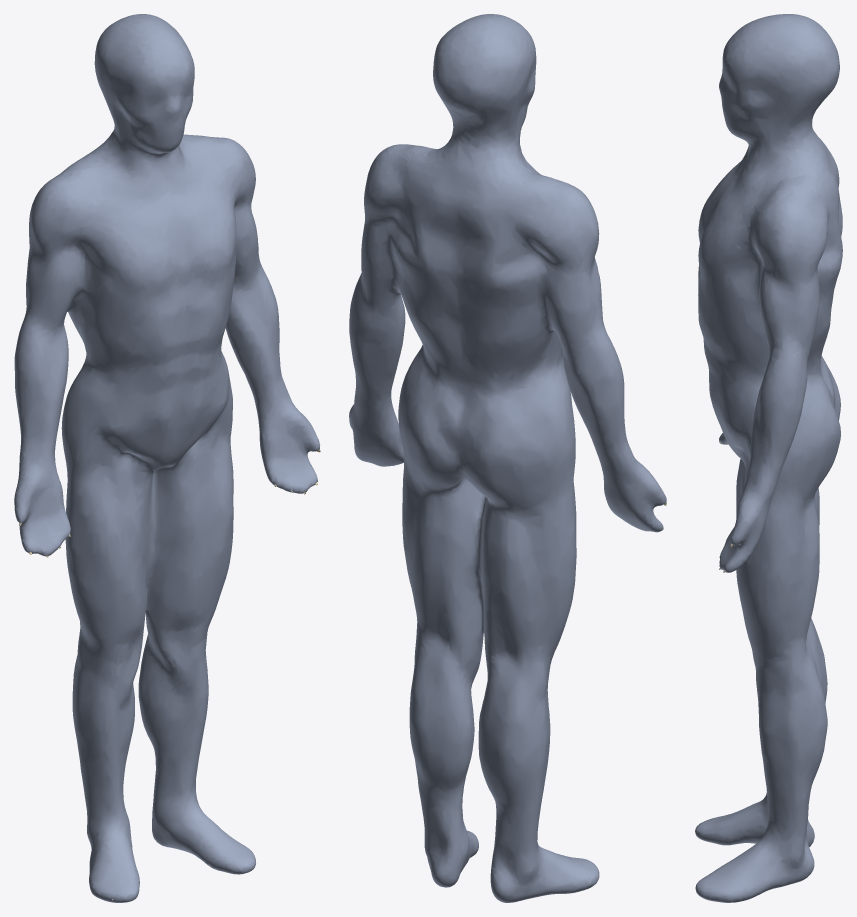
The model's file is male.glb.
3 views of the same model, side by side, from view 1: azimuth 30°, elevation 25°; view 2: azimuth 150°, elevation 25°; view 3: azimuth 270°, elevation 25° (orthographic). The views are drawn at different scales.
Parts seen in each view (by area): view 1: Skin; view 2: Skin; view 3: Skin.
Boxes of the visible parts, bbox=[...] form: Skin: bbox=[14, 14, 319, 902]; Skin: bbox=[349, 14, 666, 902]; Skin: bbox=[695, 14, 842, 902].
Bounding box in the file's own units: 0.6523 × 1.73 × 0.2728.
